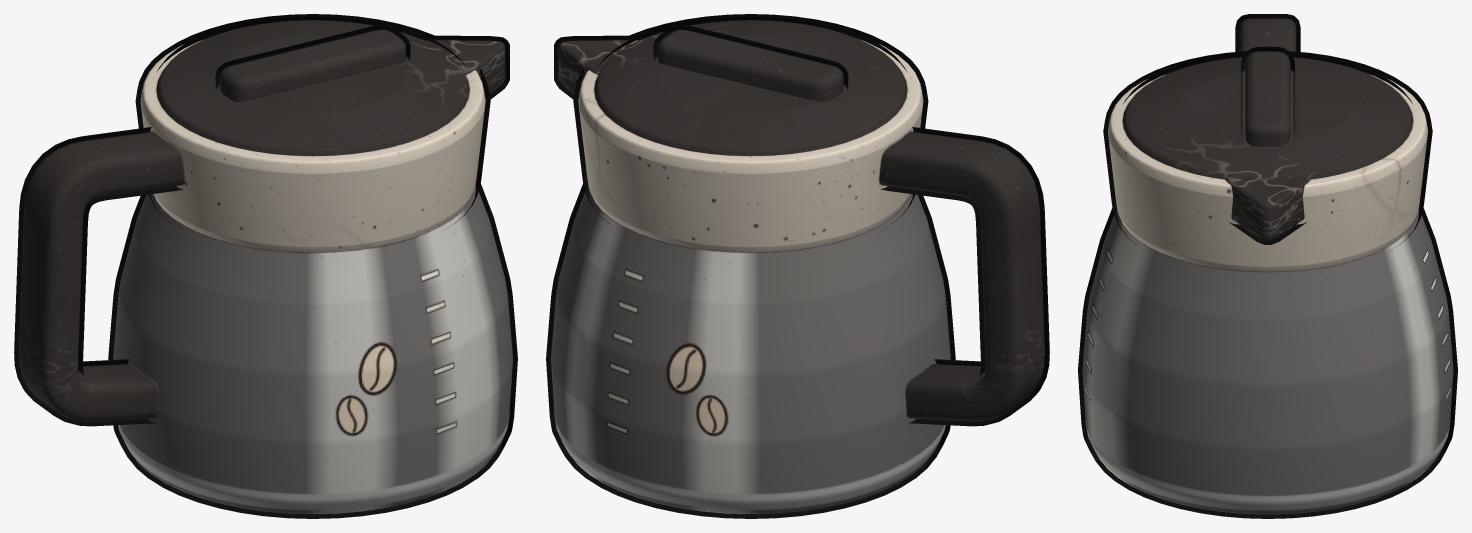
File: CoffeePot_Empty.fbx
The picture shows the model from 3 angles, left to right: view 1: azimuth 30°, elevation 25°; view 2: azimuth 150°, elevation 25°; view 3: azimuth 270°, elevation 25°; orthographic projection. The views are drawn at different scales.
Visible parts, largest first — view 1: CoffeePot_Empty; view 2: CoffeePot_Empty; view 3: CoffeePot_Empty.
Part boxes in pixels (x1=…): CoffeePot_Empty: x1=14, y1=14, x2=517, y2=518; CoffeePot_Empty: x1=546, y1=14, x2=1049, y2=518; CoffeePot_Empty: x1=1078, y1=14, x2=1457, y2=518.
Bounding box in the file's own units: 0.1827 × 0.1417 × 0.1347.
Materials: 1 (1 with a texture image).
